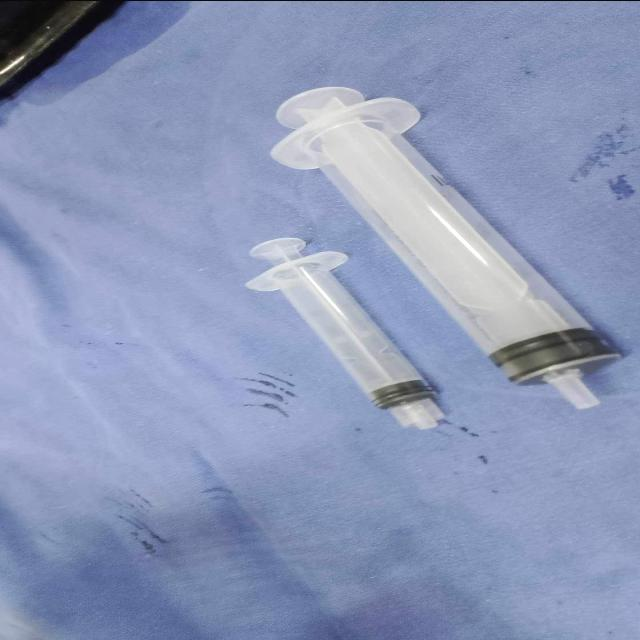General: (3, 3, 634, 638)
Sharps: (267, 86, 624, 410), (243, 236, 448, 430)
